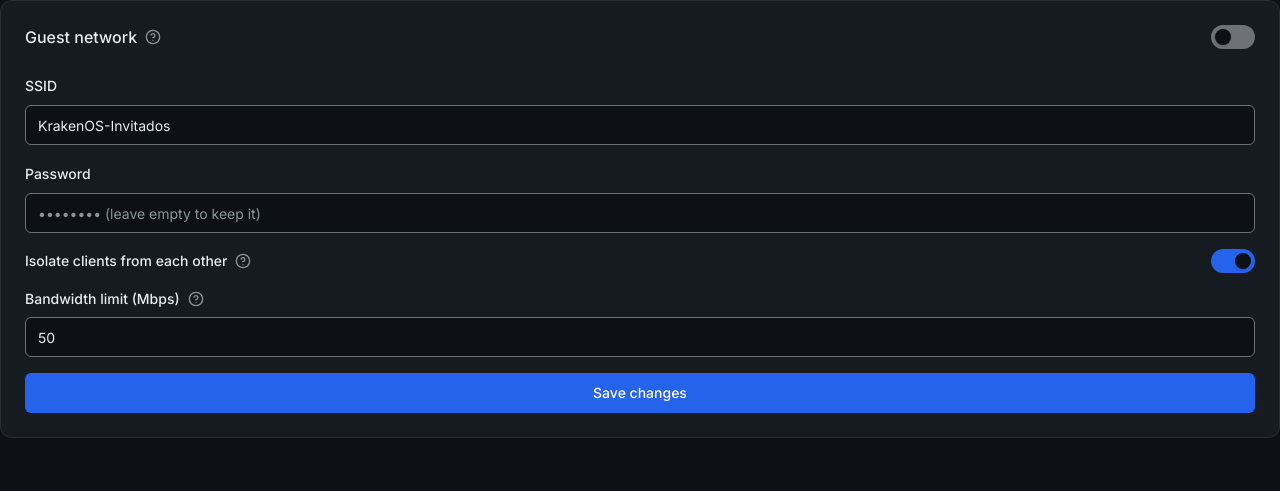
Test: GuestNetworkCard › en inglés el error del servidor se traduce por su código
Click the button "Save changes" at (640, 393), box 25,373 -> 1255,413
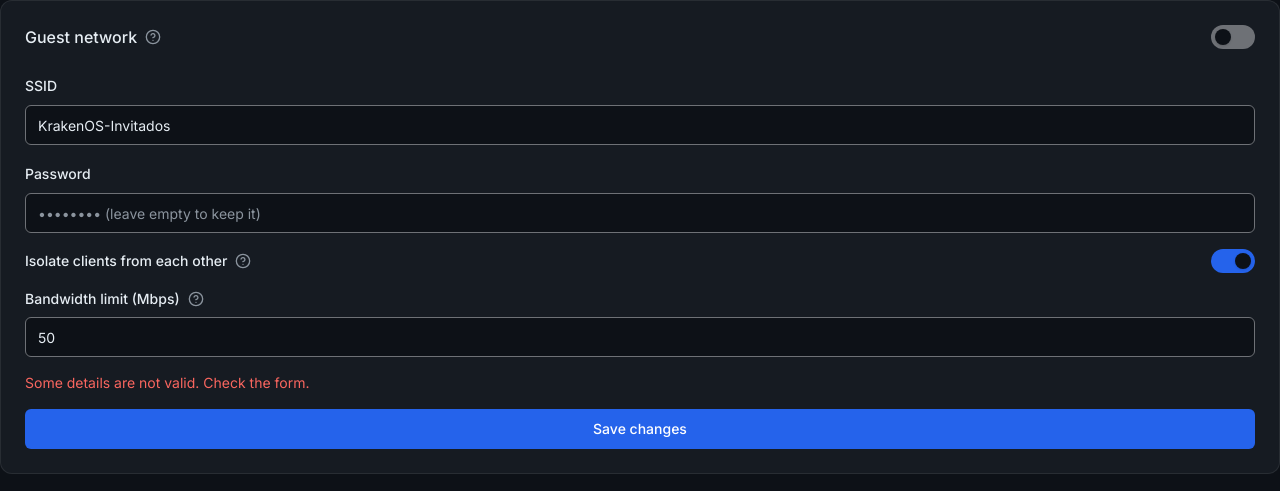
expect the message reads "Some details are not valid. Check the form.": met, box 25,374 -> 310,391
